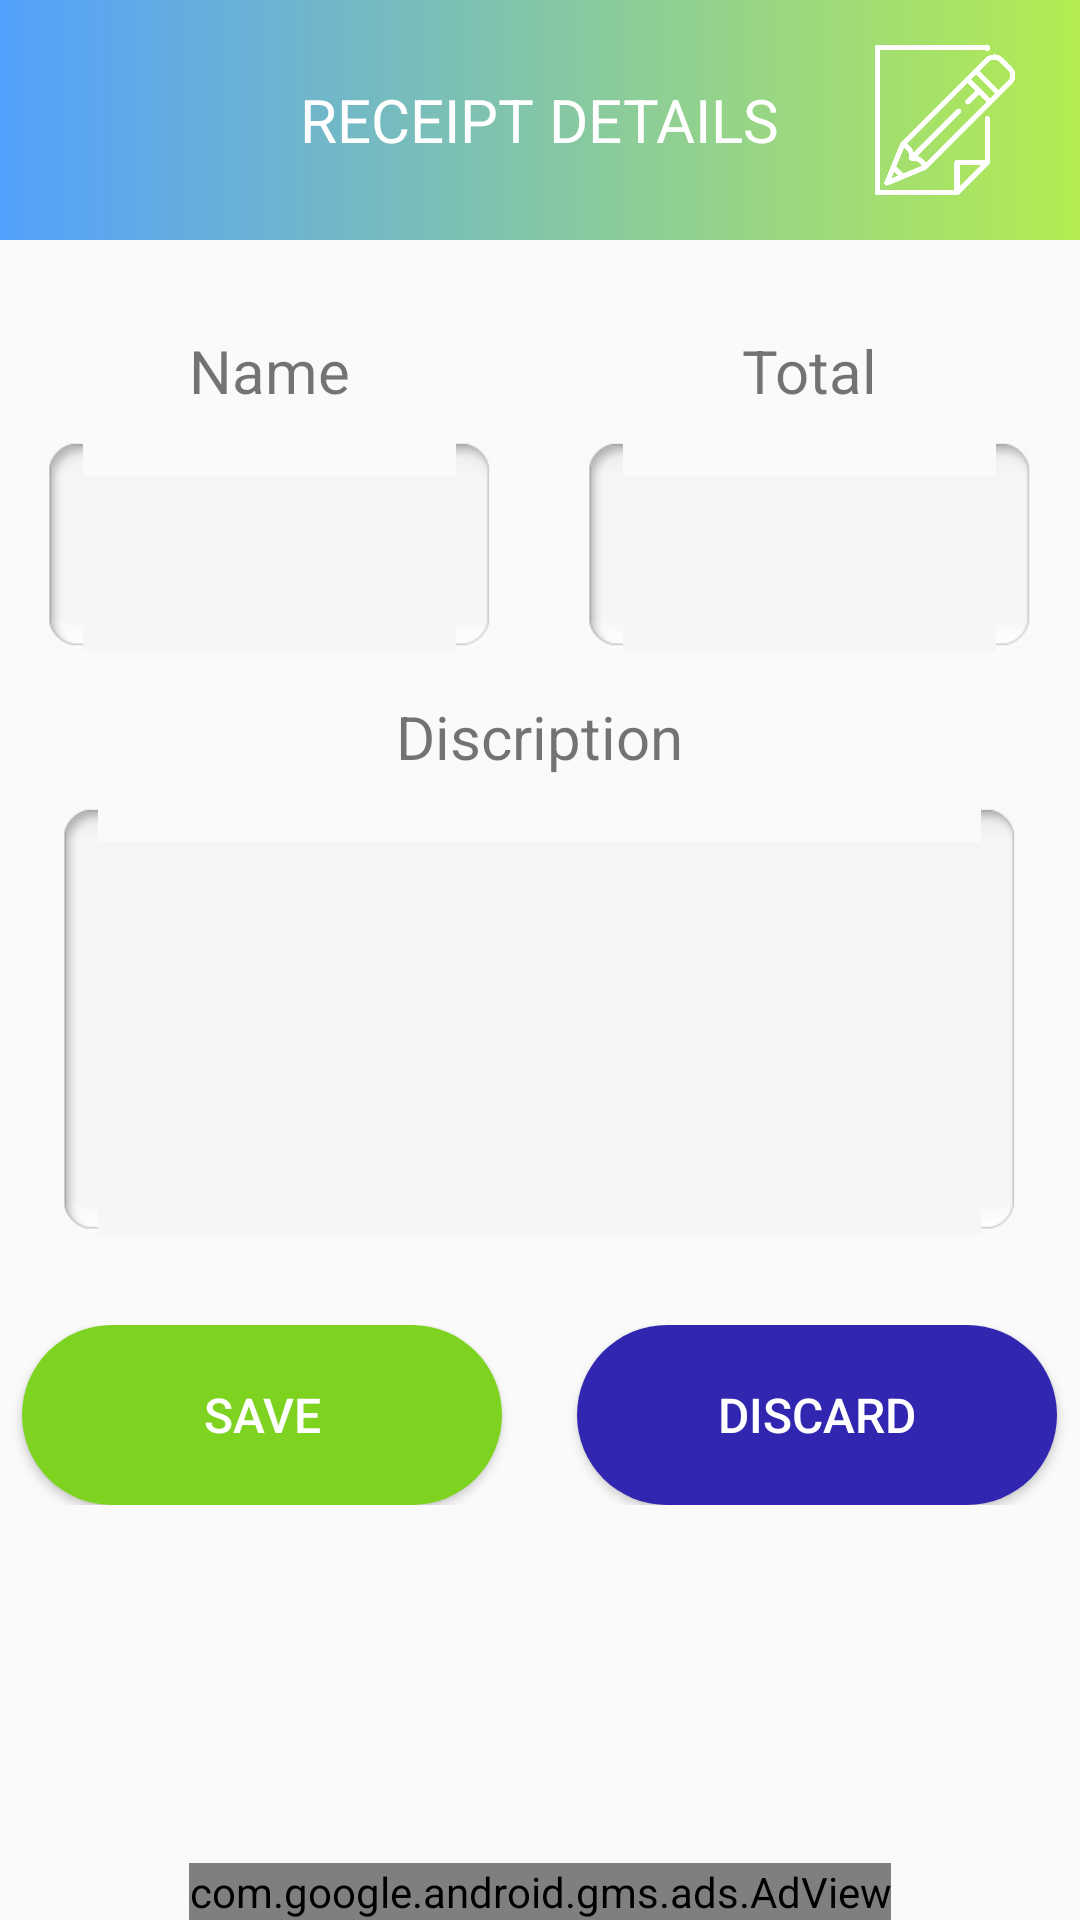

Icon click points for this 1080px x 1920px phone screenshot, format point (x, y):
pencil: point (947, 120)
